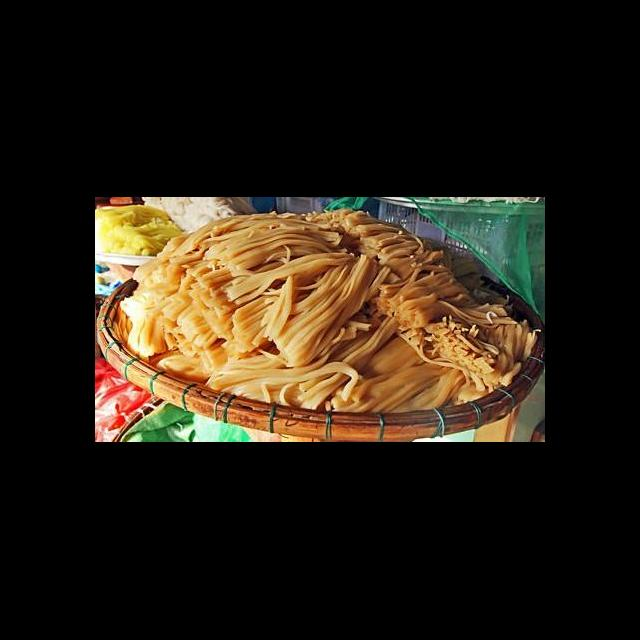mi: (197, 252, 393, 372), (157, 208, 354, 304), (116, 256, 237, 388), (323, 330, 472, 418), (299, 205, 452, 288), (417, 300, 538, 392), (201, 348, 362, 414), (371, 266, 479, 350), (96, 202, 190, 260)
